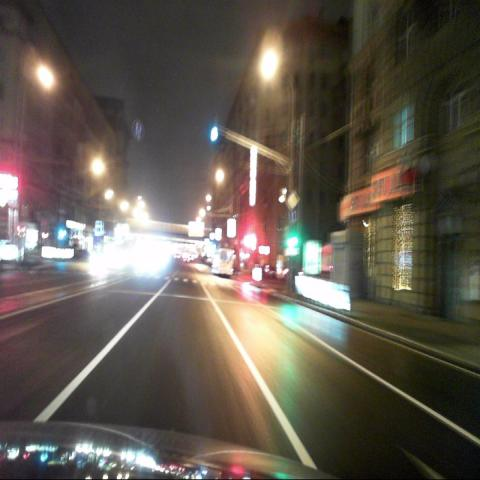2_1: (288, 191, 298, 210)
